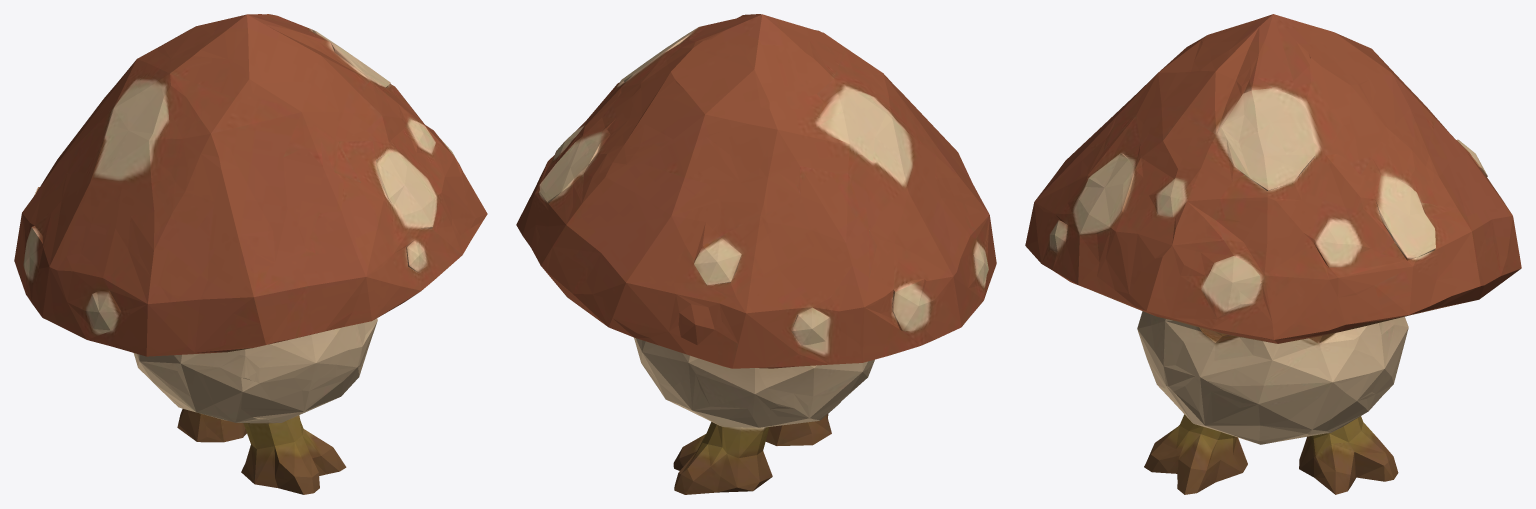
Rendered from monstre_champignon_grognon_v2_tripo.glb.
3 views of the same model, side by side, from view 1: azimuth 30°, elevation 25°; view 2: azimuth 150°, elevation 25°; view 3: azimuth 270°, elevation 25° (orthographic). The views are drawn at different scales.
Parts seen in each view (by area): view 1: tripo_node_c16fc27b-59ea-4795-bf77-3dd40f950547; view 2: tripo_node_c16fc27b-59ea-4795-bf77-3dd40f950547; view 3: tripo_node_c16fc27b-59ea-4795-bf77-3dd40f950547.
Boxes of the visible parts, x1,y1,x2,y2 form: tripo_node_c16fc27b-59ea-4795-bf77-3dd40f950547: [14, 14, 487, 494]; tripo_node_c16fc27b-59ea-4795-bf77-3dd40f950547: [516, 14, 996, 494]; tripo_node_c16fc27b-59ea-4795-bf77-3dd40f950547: [1025, 14, 1521, 494].
Size of the model in its own units: 0.9819 by 1 by 0.9953.
Materials: 1 (1 with a texture image).
